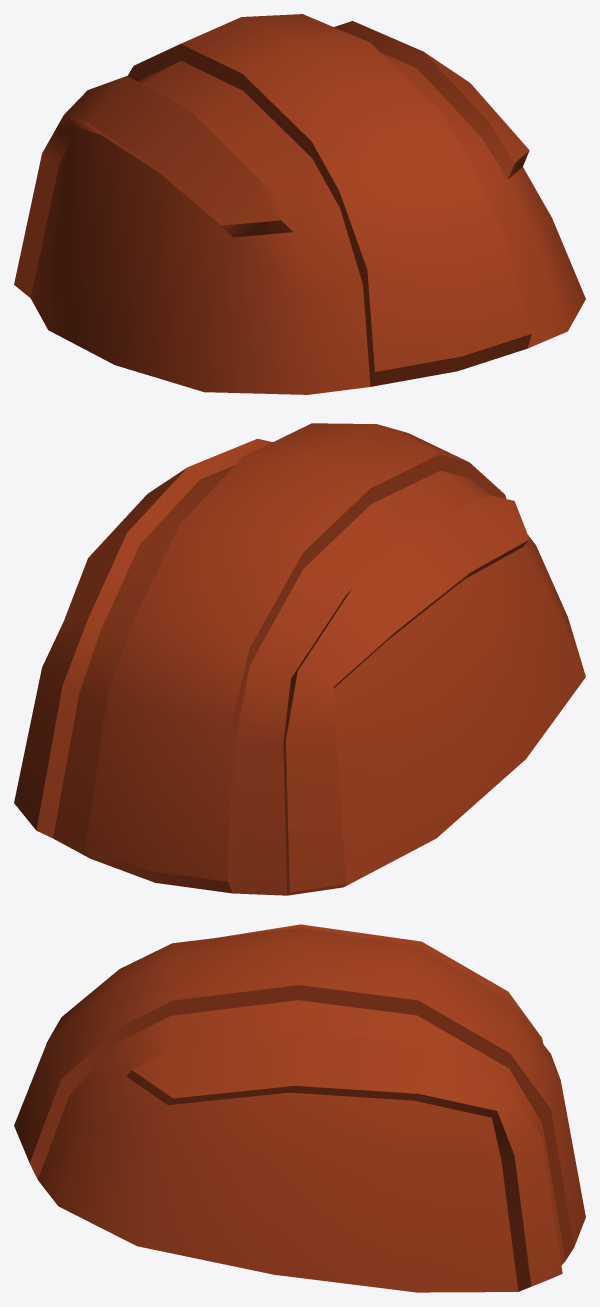
File: Helm.fbx
3 renders of one model, top to bottom at view 1: azimuth 30°, elevation 25°; view 2: azimuth 150°, elevation 25°; view 3: azimuth 270°, elevation 25°, orthographic. The views are drawn at different scales.
Visible parts, largest first — view 1: Cube.006; view 2: Cube.006; view 3: Cube.006.
Boxes of the visible parts, <box> form: Cube.006: <box>14,14,585,394</box>; Cube.006: <box>14,423,585,895</box>; Cube.006: <box>14,924,585,1292</box>.
Size of the model in its own units: 29.65 by 21.5 by 38.9.
